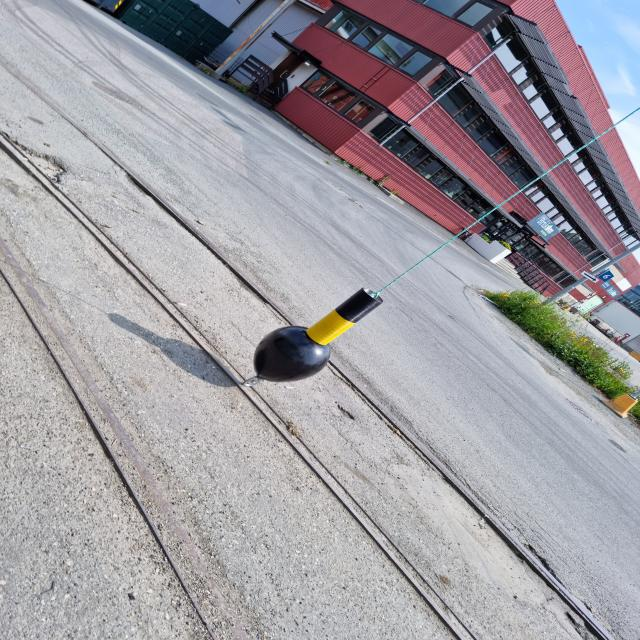east: (252, 288, 383, 382)
